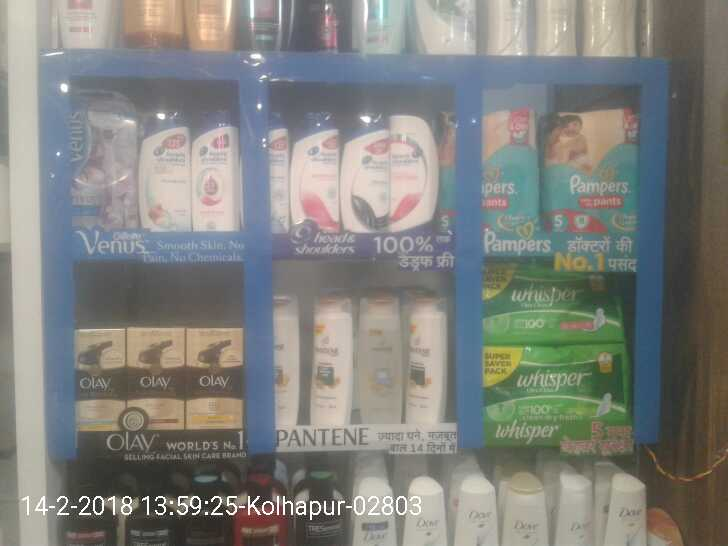venus: (74, 87, 136, 229)
